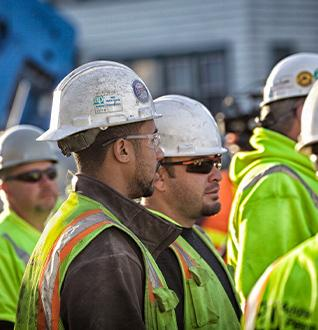helmet: (40, 62, 162, 139), (140, 95, 227, 171), (263, 54, 318, 103), (1, 125, 57, 170), (298, 83, 318, 154)
